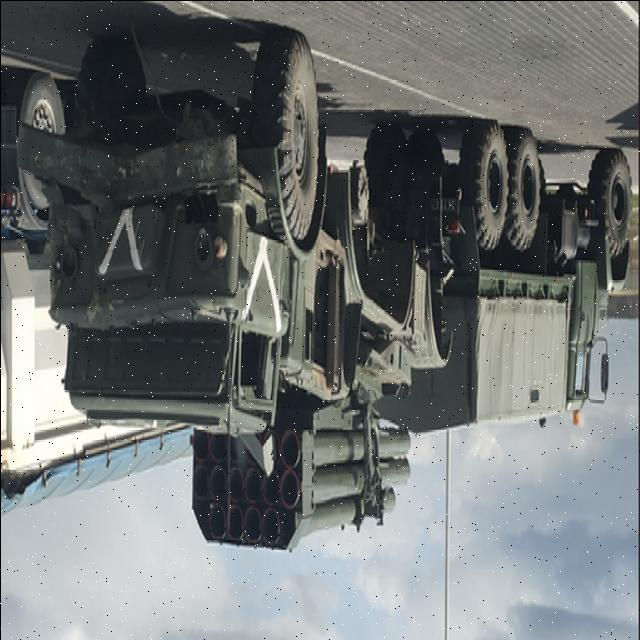MLRS: (28, 32, 430, 576)
TRUCK: (366, 118, 635, 442)
